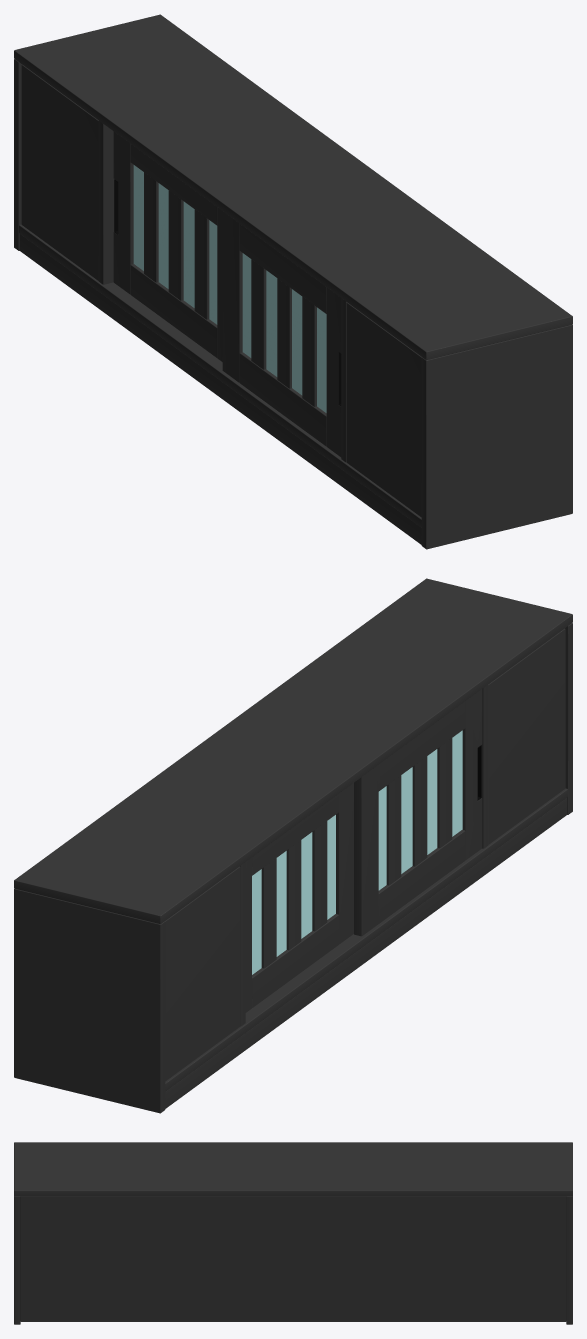
File: SM_TV_Stand_01_170.fbx
The picture shows the model from 3 angles, top to bottom: view 1: azimuth 30°, elevation 25°; view 2: azimuth 150°, elevation 25°; view 3: azimuth 270°, elevation 25°; orthographic projection. The views are drawn at different scales.
Visible parts, largest first — view 1: SM_TV_Stand_01_170_LOD0; view 2: SM_TV_Stand_01_170_LOD0; view 3: SM_TV_Stand_01_170_LOD0.
Part boxes in pixels (bbox=[...]): SM_TV_Stand_01_170_LOD0: bbox=[14, 14, 572, 549]; SM_TV_Stand_01_170_LOD0: bbox=[14, 578, 572, 1113]; SM_TV_Stand_01_170_LOD0: bbox=[14, 1142, 572, 1324].
Bounding box in the file's own units: 35 × 170 × 45.
